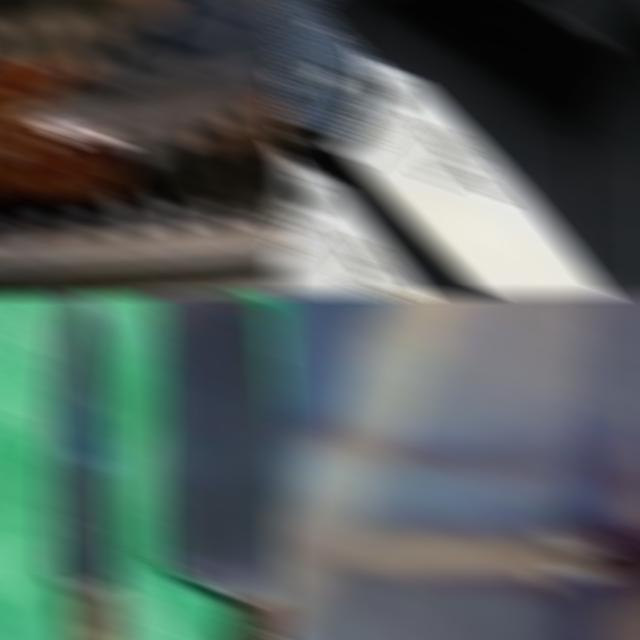Knife: (274, 0, 612, 296), (153, 292, 288, 640), (46, 292, 129, 640)
Knife_Handle: (285, 438, 640, 640), (24, 0, 288, 167)
